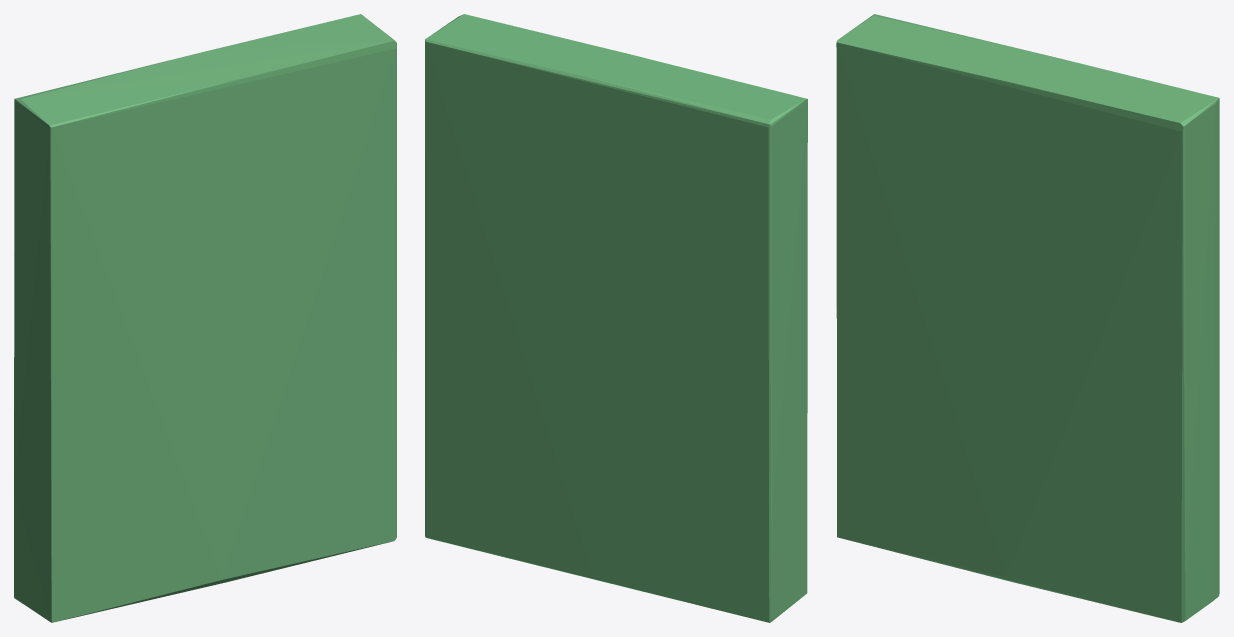
Rendered from box_flat_a14.glb.
3 renders of one model, left to right at view 1: azimuth 30°, elevation 25°; view 2: azimuth 150°, elevation 25°; view 3: azimuth 330°, elevation 25°, orthographic.
Parts seen in each view (by area): view 1: geometry_0; view 2: geometry_0; view 3: geometry_0.
Boxes of the visible parts, box(x1,y1,x2,y2) form: geometry_0: box(14, 14, 396, 622); geometry_0: box(425, 14, 807, 622); geometry_0: box(836, 14, 1219, 622).
Size of the model in its own units: 0.3481 by 0.4794 by 0.0665.
